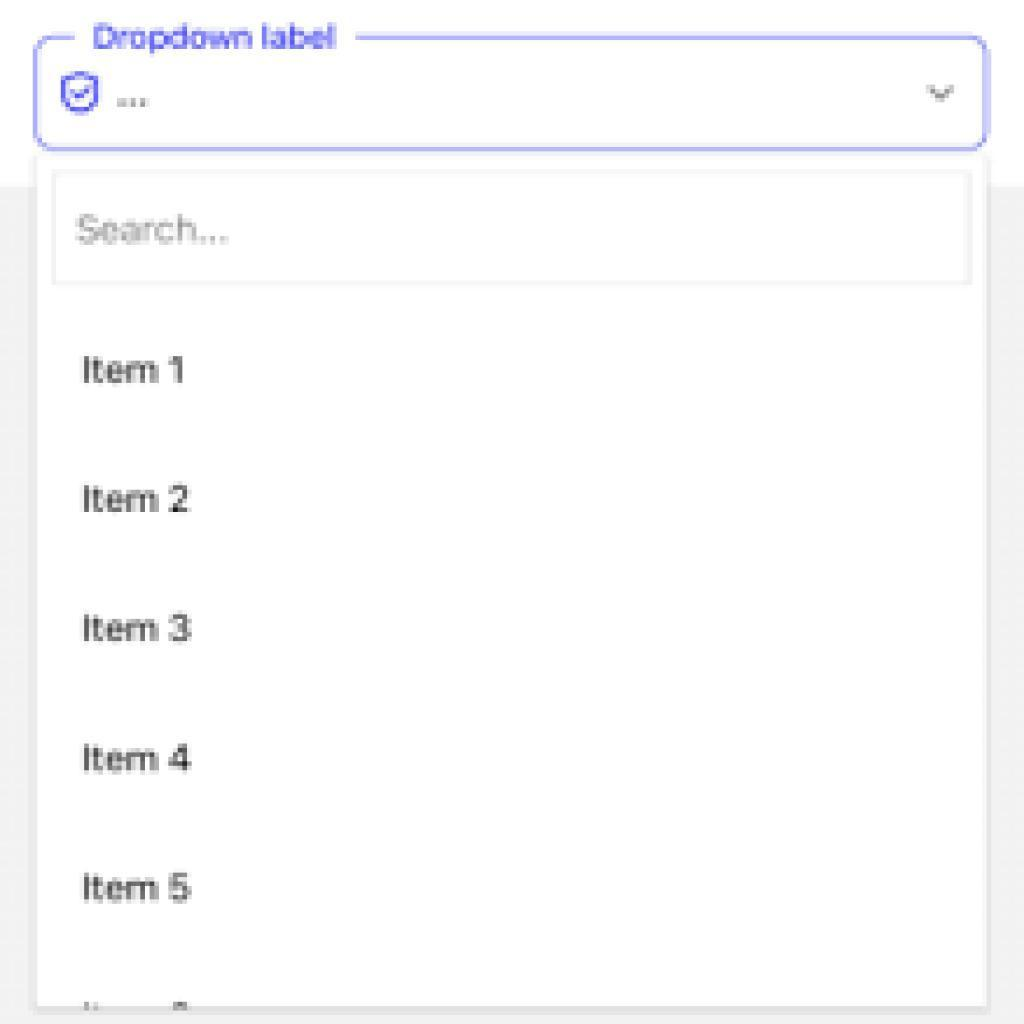dropdown: (35, 41, 988, 152)
input: (54, 171, 972, 285)
label: (77, 730, 217, 789), (88, 18, 337, 50), (78, 864, 208, 915), (78, 602, 200, 650), (78, 345, 188, 393), (84, 480, 196, 520)
